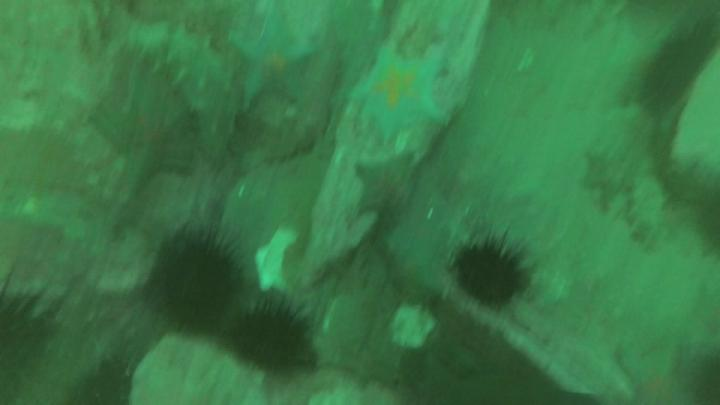echinus: (156, 238, 235, 333), (643, 29, 715, 112), (234, 310, 312, 369), (461, 243, 523, 306)
holothurian: (129, 21, 237, 167), (628, 168, 667, 254)
starfish: (95, 74, 192, 199), (352, 47, 441, 142), (237, 8, 316, 100), (384, 200, 454, 293), (354, 155, 415, 219), (586, 143, 634, 206)
